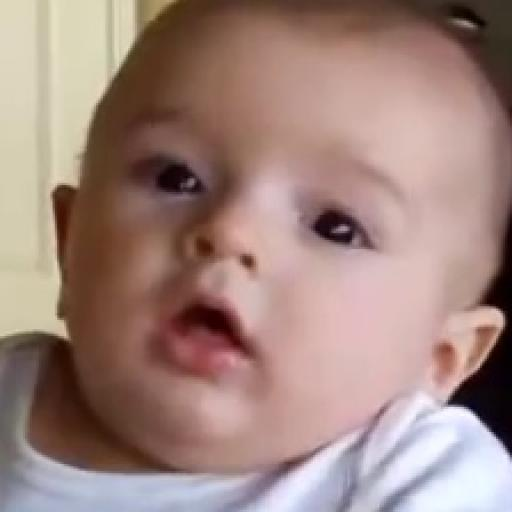Autism: (76, 4, 512, 503)
